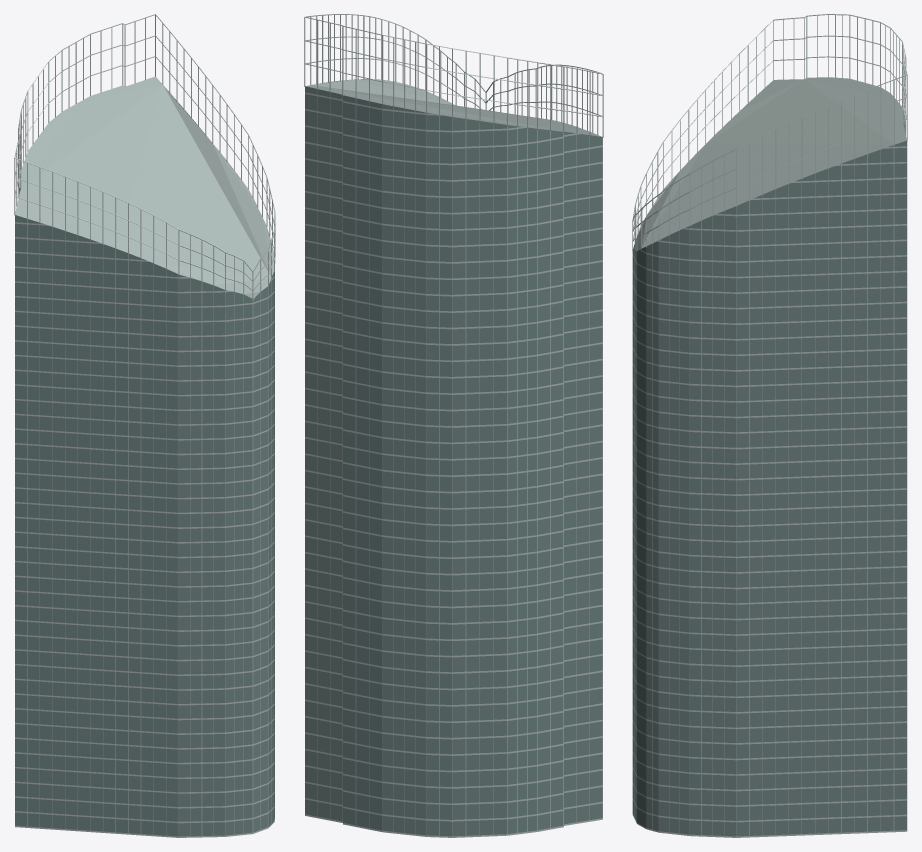
Rendered from tour-t1-near.glb.
3 renders of one model, left to right at view 1: azimuth 30°, elevation 25°; view 2: azimuth 150°, elevation 25°; view 3: azimuth 270°, elevation 25°, orthographic. The views are drawn at different scales.
Visible parts, largest first — view 1: tour-t1-0-glass, tour-t1-0-frame, tour-t1-0-roof; view 2: tour-t1-0-glass, tour-t1-0-frame, tour-t1-0-roof; view 3: tour-t1-0-glass, tour-t1-0-frame, tour-t1-0-roof.
Part boxes in pixels (<box>): tour-t1-0-glass: <box>15,188,274,836</box>; tour-t1-0-frame: <box>14,14,275,837</box>; tour-t1-0-roof: <box>15,76,273,298</box>; tour-t1-0-glass: <box>305,86,602,836</box>; tour-t1-0-frame: <box>304,14,603,837</box>; tour-t1-0-roof: <box>305,79,601,136</box>; tour-t1-0-glass: <box>632,124,906,836</box>; tour-t1-0-frame: <box>632,14,907,837</box>; tour-t1-0-roof: <box>633,77,906,250</box>.
Bounding box in the file's own units: 58.58 × 185 × 61.04.
